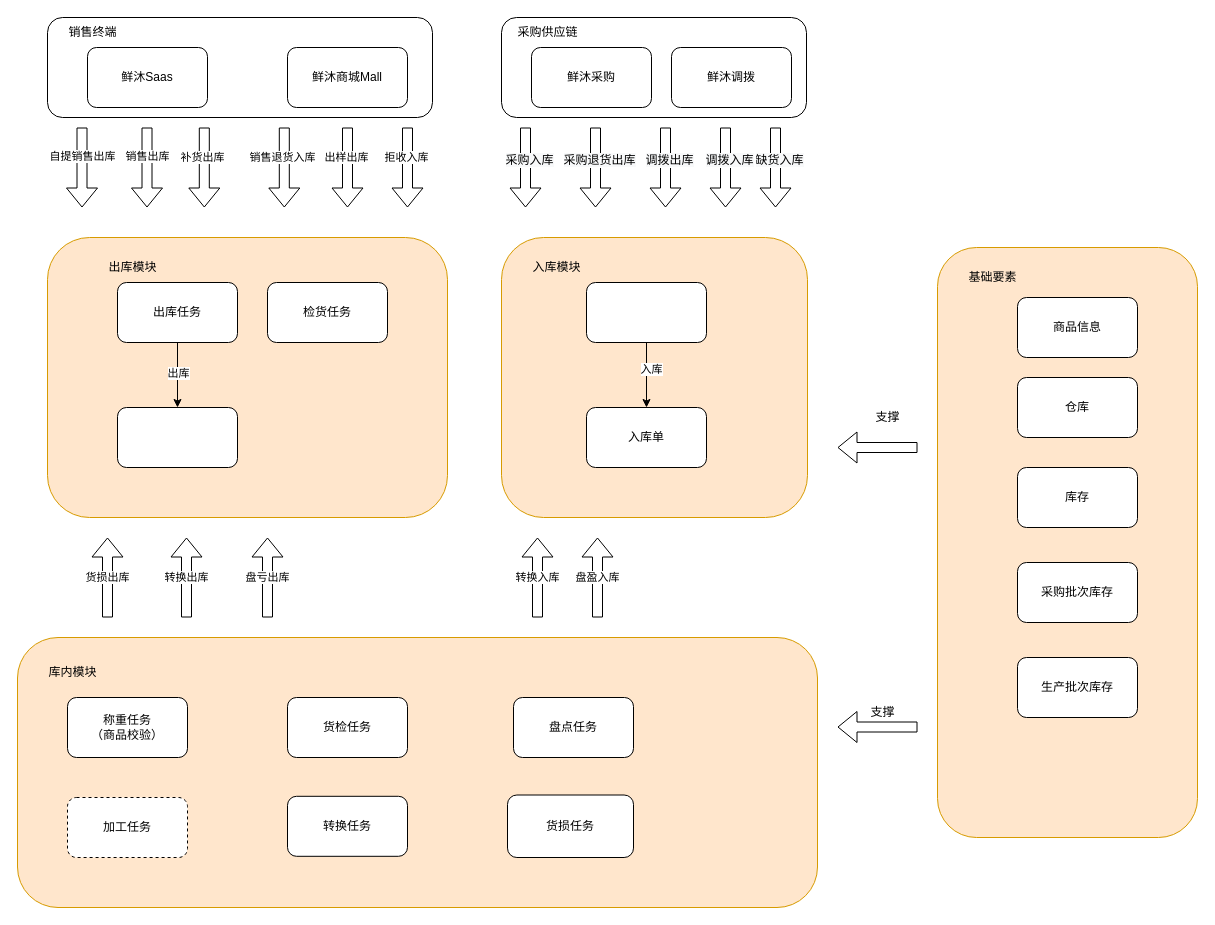
This 1215x925 diagram has some shape labels left out. Each missing label, with the box of its shape:
入库任务: (586, 282, 706, 342)
出库单: (116, 406, 238, 468)
